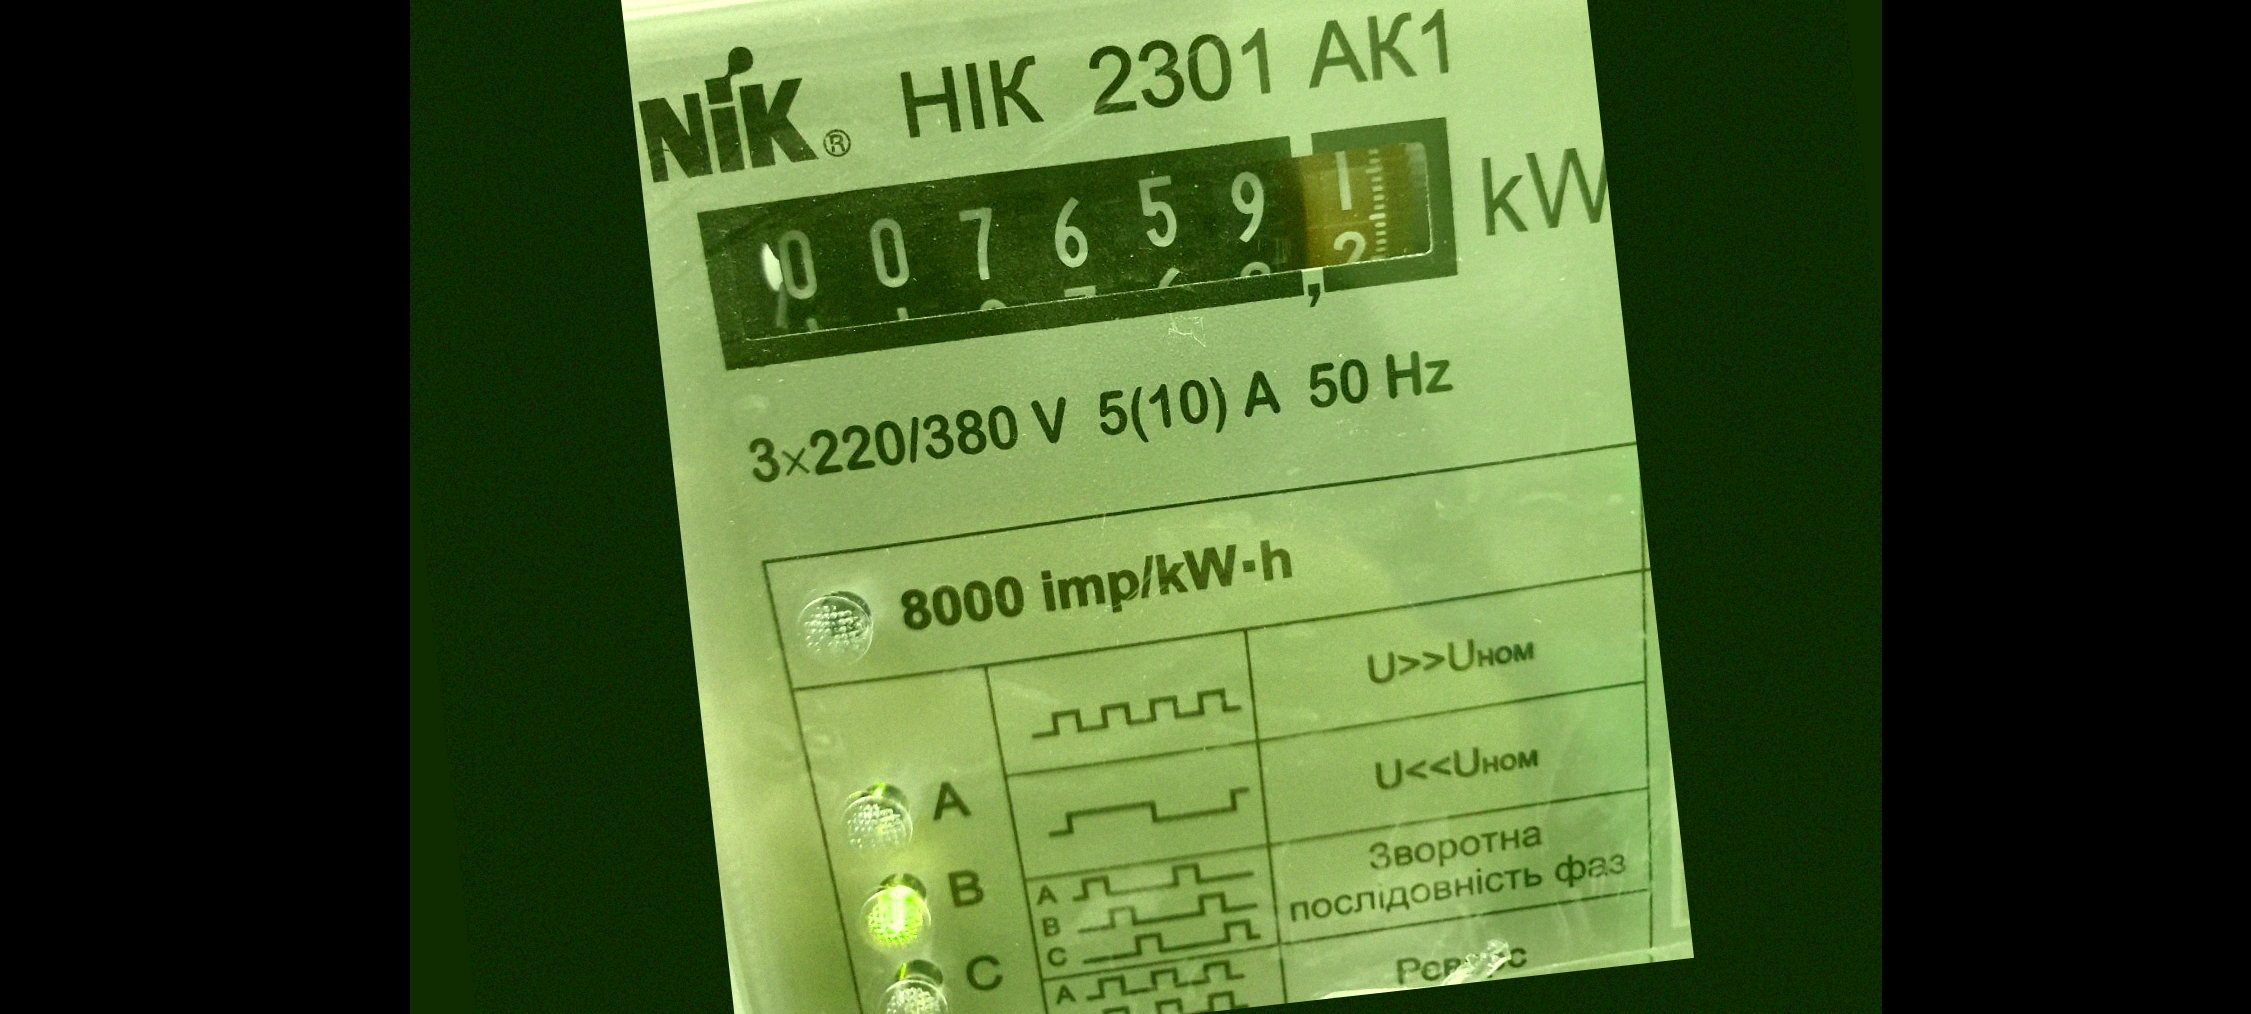0: (856, 205, 922, 296), (768, 215, 828, 312)
1: (1325, 141, 1367, 218)
5: (1131, 167, 1186, 253)
6: (1039, 187, 1100, 274)
7: (953, 198, 1005, 287)
9: (1225, 159, 1275, 251)
screen: (675, 93, 1489, 394)
